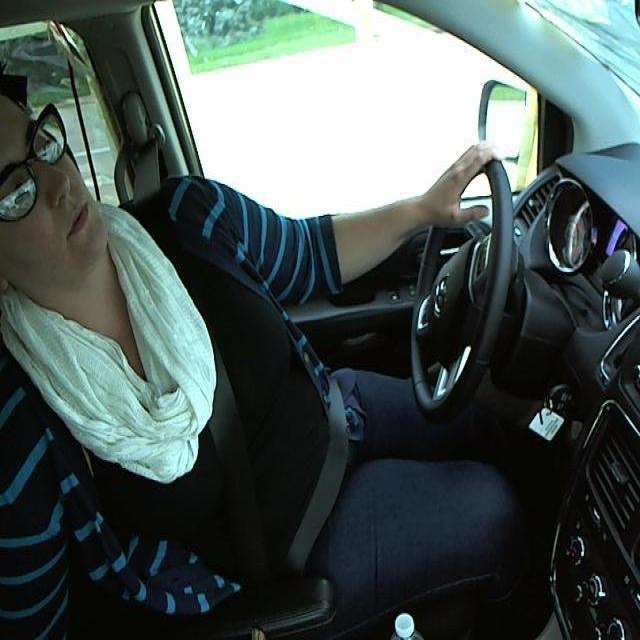seatbelt: (154, 240, 352, 556)
